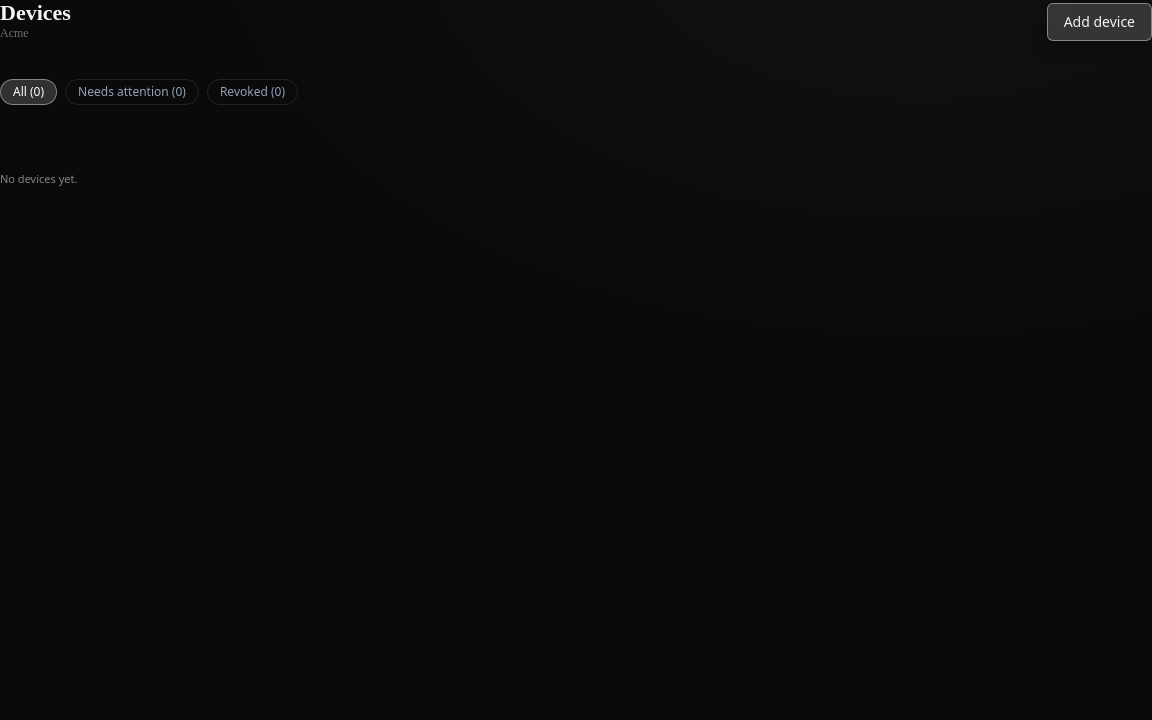
Devices — creation is a dialog, not a permanent form › ⛔ THE FORM IS ABSENT UNTIL ASKED FOR
The width and height of the screenshot is (1152, 720).
Expected: the field with placeholder "my-laptop" is not shown
Expected: the button "create device" is not shown
// …until the trigger is used.
What coordinates should you click on to do the following:
click the button "Add device"
I would click on:
 (1099, 22)
Its box is [1047,3,1151,41].
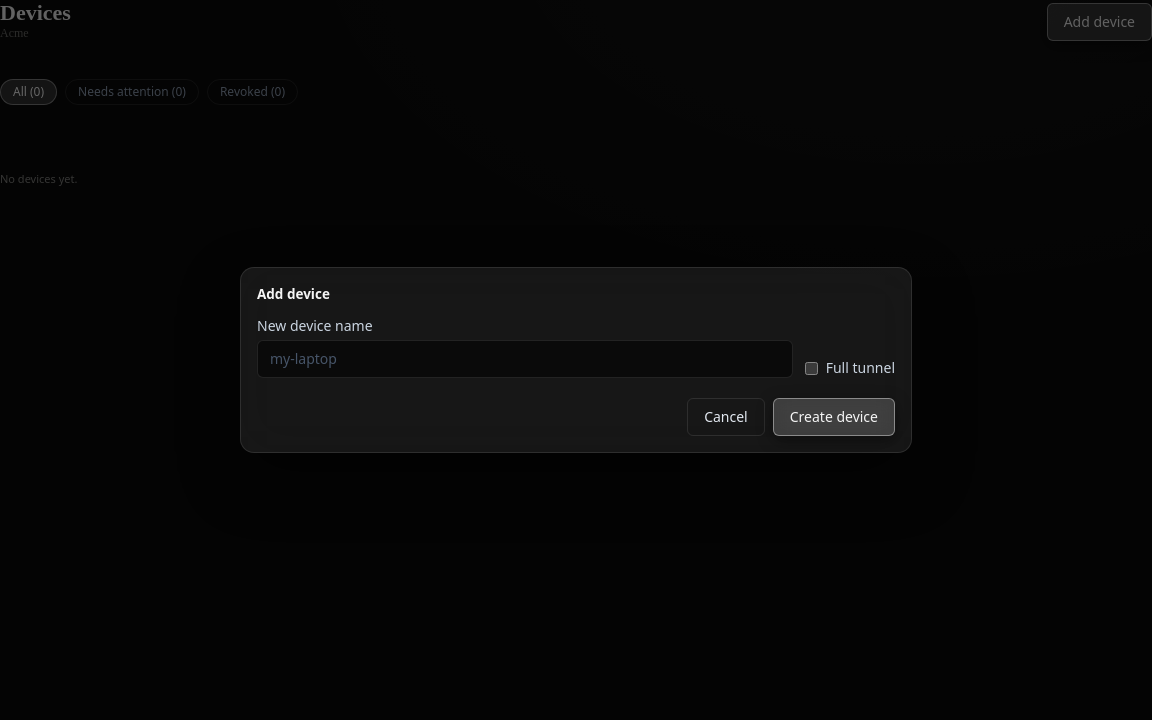
Now the field with placeholder "my-laptop" is shown, box [257,340,793,378]
Now the button "Create device" is shown, box [773,398,895,436]
